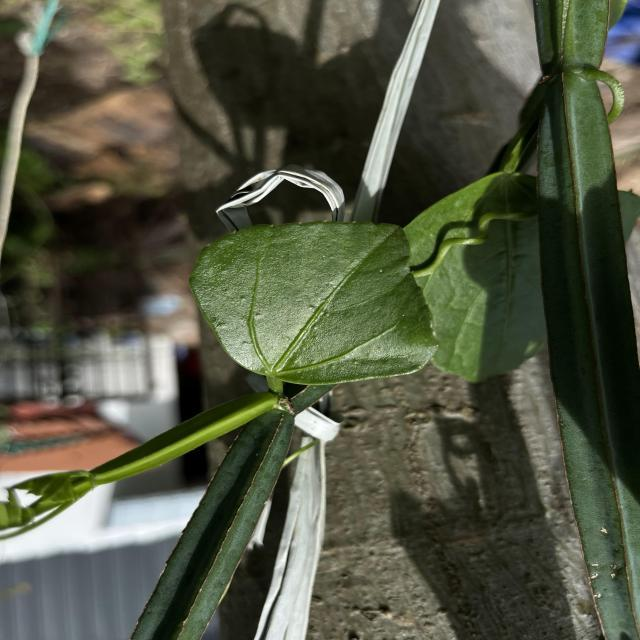Cissus quadrangularis: (186, 217, 444, 388)
